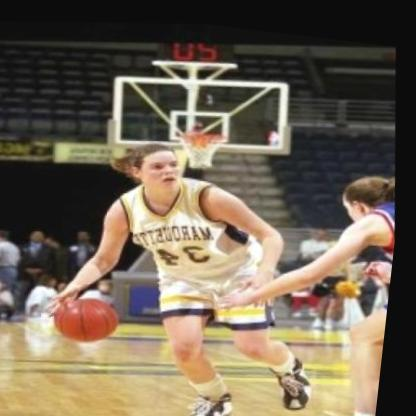basketball: (54, 280, 134, 350)
